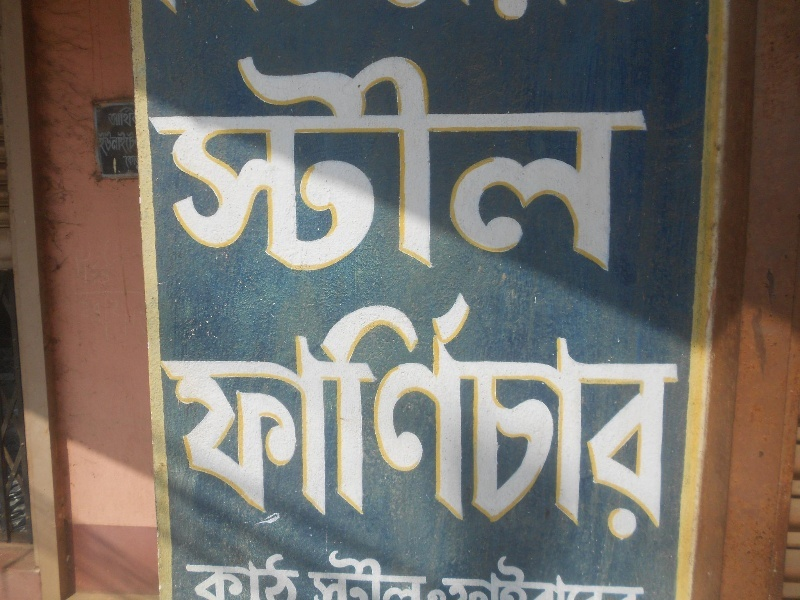text: (161, 278, 176, 549), (177, 278, 192, 549), (193, 278, 208, 549), (209, 278, 224, 549), (225, 278, 240, 549), (241, 278, 256, 549), (257, 278, 272, 549), (273, 278, 288, 549), (289, 278, 304, 549), (305, 278, 320, 549), (321, 278, 336, 549), (337, 278, 352, 549), (353, 278, 368, 549), (369, 278, 384, 549), (385, 278, 400, 549), (401, 278, 416, 549), (417, 278, 432, 549), (433, 278, 448, 549), (449, 278, 464, 549), (465, 278, 480, 549), (481, 278, 496, 549), (497, 278, 512, 549), (513, 278, 528, 549), (529, 278, 544, 549), (545, 278, 560, 549), (561, 278, 576, 549), (577, 278, 592, 549), (593, 278, 608, 549), (609, 278, 624, 549), (625, 278, 640, 549), (641, 278, 656, 549), (657, 278, 672, 549), (161, 58, 176, 282), (177, 58, 192, 282), (193, 58, 208, 282), (209, 58, 224, 282), (225, 58, 240, 282), (241, 58, 256, 282), (257, 58, 272, 282), (273, 58, 288, 282), (289, 58, 304, 282), (305, 58, 320, 282), (321, 58, 336, 282), (337, 58, 352, 282), (353, 58, 368, 282), (369, 58, 384, 282), (385, 58, 400, 282), (401, 58, 416, 282), (417, 58, 432, 282), (433, 58, 448, 282), (449, 58, 464, 282), (465, 58, 480, 282), (481, 58, 496, 282), (497, 58, 512, 282), (513, 58, 528, 282), (529, 58, 544, 282), (545, 58, 560, 282), (561, 58, 576, 282), (577, 58, 592, 282), (593, 58, 608, 282), (609, 58, 624, 282), (625, 58, 640, 282), (641, 58, 656, 282), (673, 278, 683, 549), (152, 58, 160, 282), (155, 278, 160, 549), (657, 58, 661, 282), (193, 551, 208, 600), (209, 551, 224, 600), (225, 551, 240, 600), (241, 551, 256, 600), (257, 551, 272, 600), (273, 551, 288, 600), (289, 551, 304, 600), (305, 551, 320, 600), (321, 551, 336, 600), (337, 551, 352, 600), (353, 551, 368, 600), (369, 551, 384, 600), (385, 551, 400, 600), (401, 551, 416, 600), (417, 551, 432, 600), (433, 551, 448, 600), (449, 551, 464, 600), (465, 551, 480, 600), (481, 551, 496, 600), (497, 551, 512, 600), (513, 551, 528, 600), (529, 551, 544, 600), (545, 551, 560, 600), (561, 551, 576, 600), (577, 551, 592, 600), (593, 551, 608, 600), (609, 551, 624, 600), (625, 551, 640, 600), (113, 131, 128, 157), (185, 551, 192, 600), (99, 131, 112, 157), (513, 1, 529, 22), (497, 1, 512, 22), (113, 107, 128, 128), (641, 551, 647, 600), (113, 157, 128, 174), (161, 1, 176, 17), (129, 131, 136, 157), (129, 156, 139, 171), (245, 1, 256, 13), (129, 107, 135, 128), (401, 1, 416, 9), (289, 1, 304, 8), (387, 1, 400, 9), (305, 1, 318, 8), (108, 107, 112, 128), (417, 1, 427, 9), (123, 156, 128, 171), (493, 1, 496, 22), (177, 1, 180, 17), (465, 1, 471, 9), (257, 1, 260, 13), (561, 1, 567, 7), (625, 1, 632, 5), (461, 1, 464, 9), (618, 1, 624, 5), (558, 1, 560, 7), (287, 1, 288, 8)
